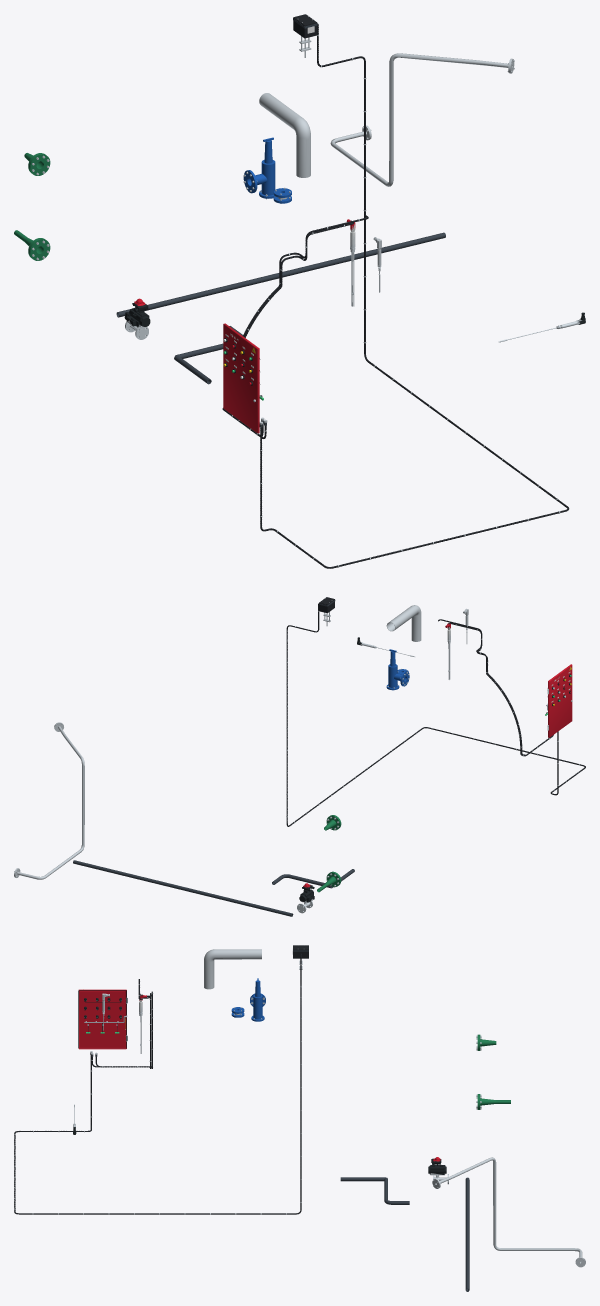
The model's file is s4000-6-D5-I3eTZ.glb.
The picture shows the model from 3 angles, top to bottom: view 1: azimuth 30°, elevation 25°; view 2: azimuth 150°, elevation 25°; view 3: azimuth 270°, elevation 25°; orthographic projection. The views are drawn at different scales.
Visible parts, largest first — view 1: cabinet_door / cabinet_door_5.npz, mod_eco_drive_cable / black, trap_gap_to_bdv / steel, bottom_discharge / dark, steam_rise / steel, safety_1 / blue, eco_inlet_adapter / green, bcv7432 / bcv7432_0.npz; view 2: cabinet_door / cabinet_door_5.npz, mod_eco_drive_cable / black, bottom_discharge / dark, trap_gap_to_bdv / steel, steam_rise / steel, safety_1 / blue, eco_inlet_adapter / green; view 3: cabinet_door / cabinet_door_5.npz, mod_eco_drive_cable / black, trap_gap_to_bdv / steel, steam_rise / steel, bottom_discharge / dark.
Boxes of the visible parts, box(x1,y1,x2,y2) form: cabinet_door / cabinet_door_5.npz: box(223, 323, 260, 433); mod_eco_drive_cable / black: box(260, 23, 569, 568); trap_gap_to_bdv / steel: box(330, 53, 514, 186); bottom_discharge / dark: box(116, 232, 445, 317); steam_rise / steel: box(259, 93, 310, 177); safety_1 / blue: box(243, 137, 275, 198); eco_inlet_adapter / green: box(14, 153, 50, 260); bcv7432 / bcv7432_0.npz: box(124, 298, 150, 339); cabinet_door / cabinet_door_5.npz: box(547, 664, 572, 737); mod_eco_drive_cable / black: box(286, 603, 585, 826); bottom_discharge / dark: box(73, 860, 293, 916); trap_gap_to_bdv / steel: box(14, 722, 84, 879); steam_rise / steel: box(386, 605, 421, 641); safety_1 / blue: box(386, 649, 409, 690); eco_inlet_adapter / green: box(317, 815, 341, 892); cabinet_door / cabinet_door_5.npz: box(78, 989, 127, 1049); mod_eco_drive_cable / black: box(14, 955, 301, 1214); trap_gap_to_bdv / steel: box(432, 1157, 585, 1267); steam_rise / steel: box(204, 949, 261, 989); bottom_discharge / dark: box(465, 1177, 469, 1291).
Size of the model in its own units: 4.61 by 3.17 by 6.32.
